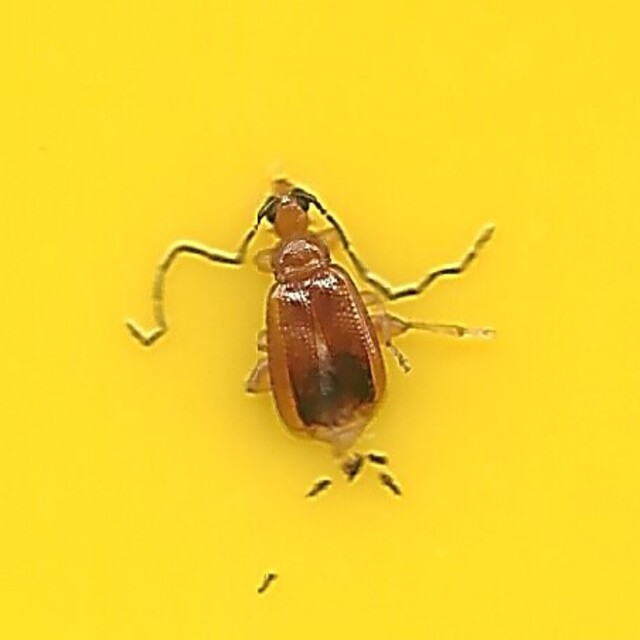Coleoptera: (142, 170, 498, 470)
